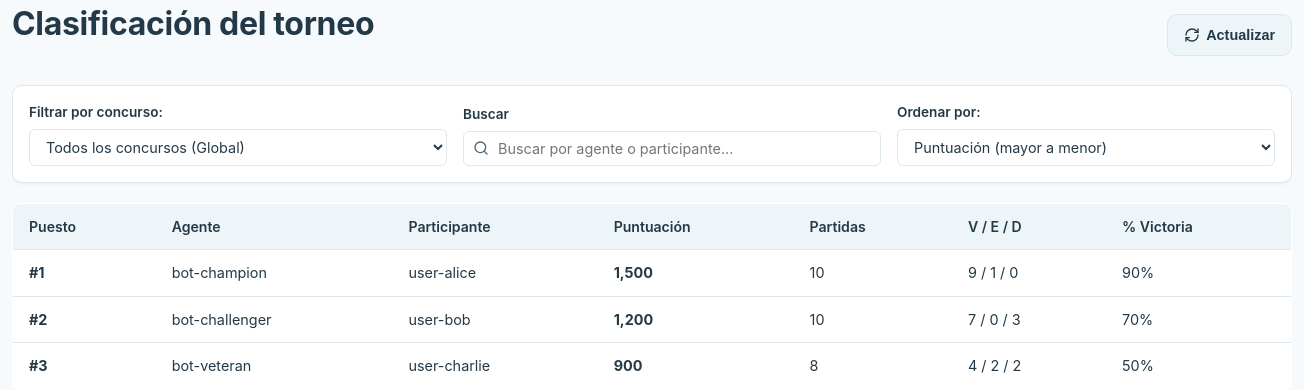
Sprint FQ-5: Tournament Experience & Real-Time Rankings › RankingsPage Real-Time Leaderboard & Filters › filters rankings by selected tournament and shows live badge for in_progress contests
The width and height of the screenshot is (1304, 390).
// Select in_progress contest
Select "Copa Universitaria (En curso)" in the dropdown labelled "Filtrar por concurso:" at point(238, 147), box [29, 129, 447, 166]
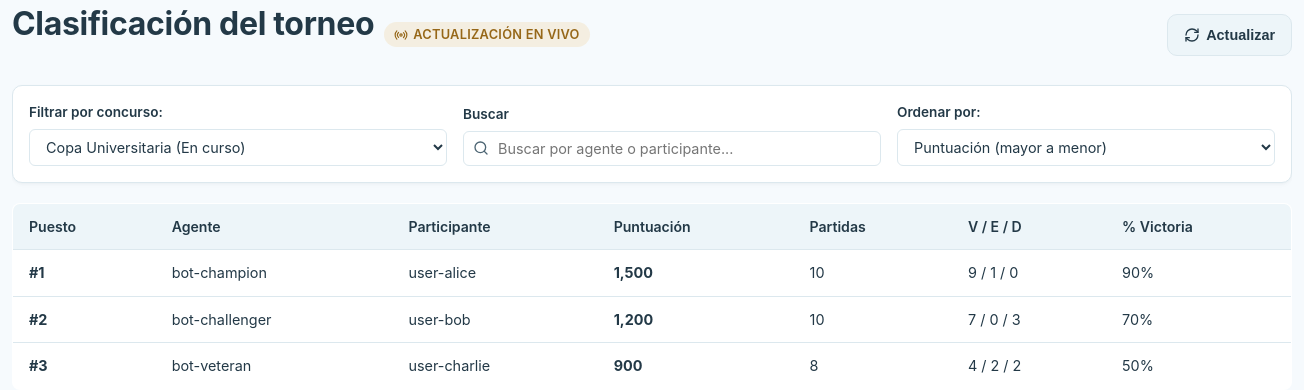
Now the text "Actualización en vivo" is shown, box [413, 25, 580, 44]
